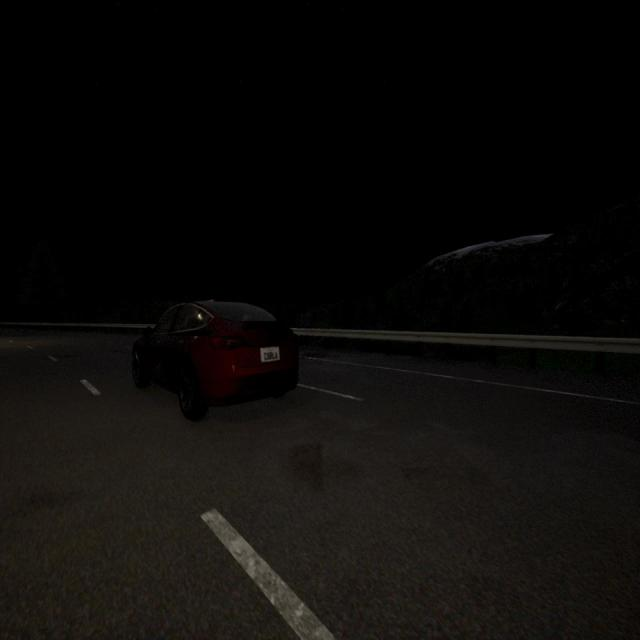Vehicle: (132, 301, 298, 419)
